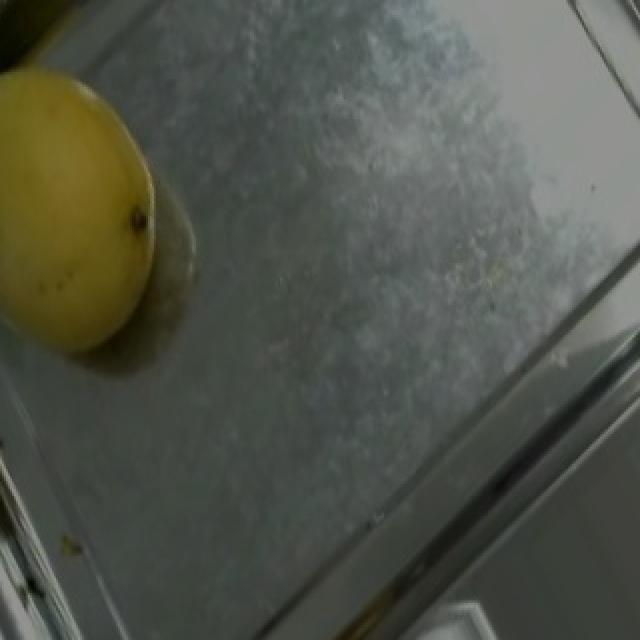fruit: (0, 40, 206, 399)
